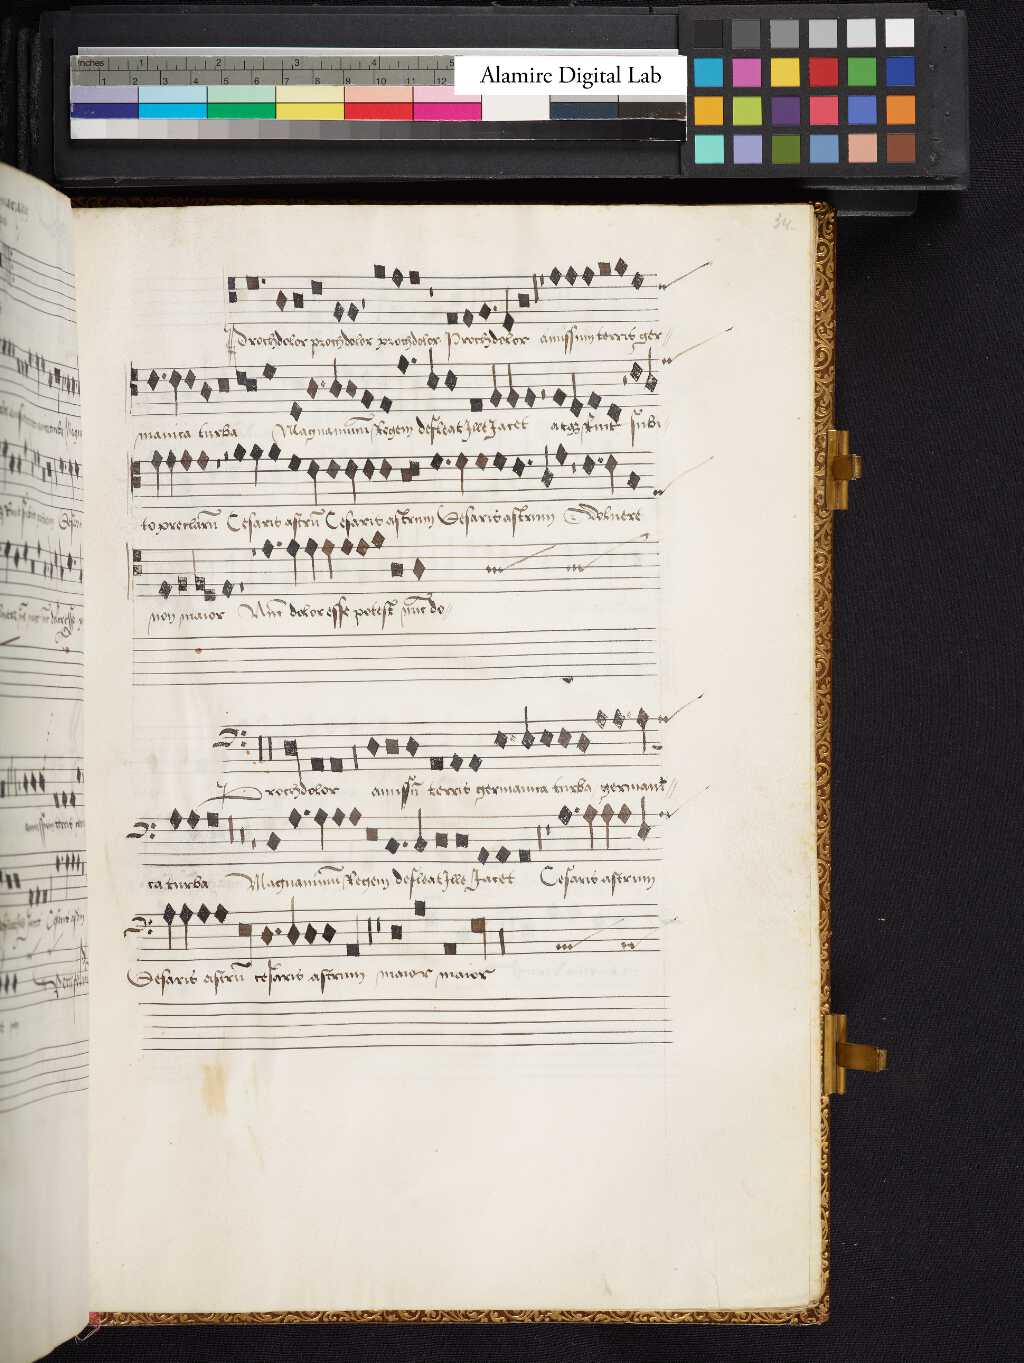c clef_5: (221, 264, 241, 314)
colored breve_10: (439, 304, 463, 330)
colored breve_2: (368, 254, 392, 286), (594, 254, 616, 284)
colored breve_3: (404, 262, 426, 292)
colored breve_4: (240, 264, 264, 300)
colored breve_5: (305, 269, 329, 302)
colored breve_7: (288, 285, 311, 314)
colored breve_8: (514, 284, 534, 314)
colored semibreve_10: (458, 300, 477, 333)
colored semibreve_2: (611, 251, 630, 285)
colored semibreve_3: (545, 259, 564, 295), (560, 259, 579, 293), (387, 260, 406, 293), (578, 259, 596, 292)
colored semibreve_4: (627, 265, 649, 299)
colored semibreve_7: (269, 284, 289, 320)
colored semibreve_9: (327, 296, 349, 330), (342, 295, 361, 329), (475, 294, 492, 326)
custos_5: (652, 270, 683, 297)
longa rest: (528, 268, 540, 326)
point: (488, 299, 501, 316), (258, 272, 270, 290)
semibreve rest: (424, 265, 438, 328), (357, 266, 370, 327), (536, 265, 547, 321)
semiminim_11: (500, 283, 514, 335)
